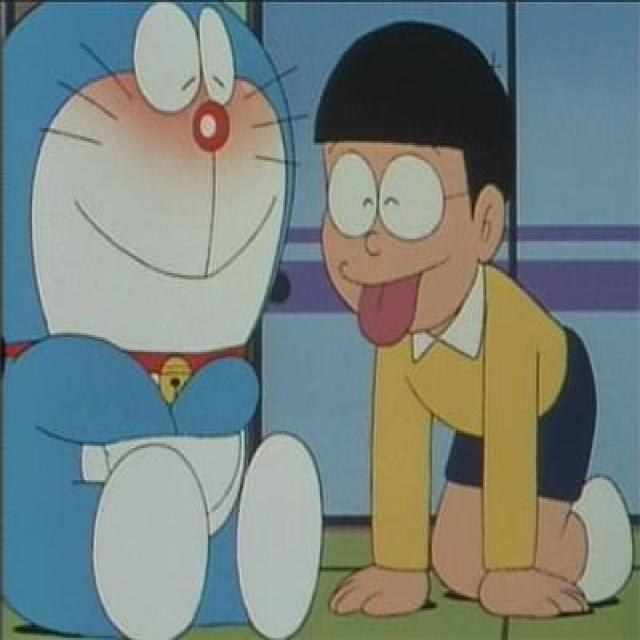nobita: (312, 15, 525, 358)
